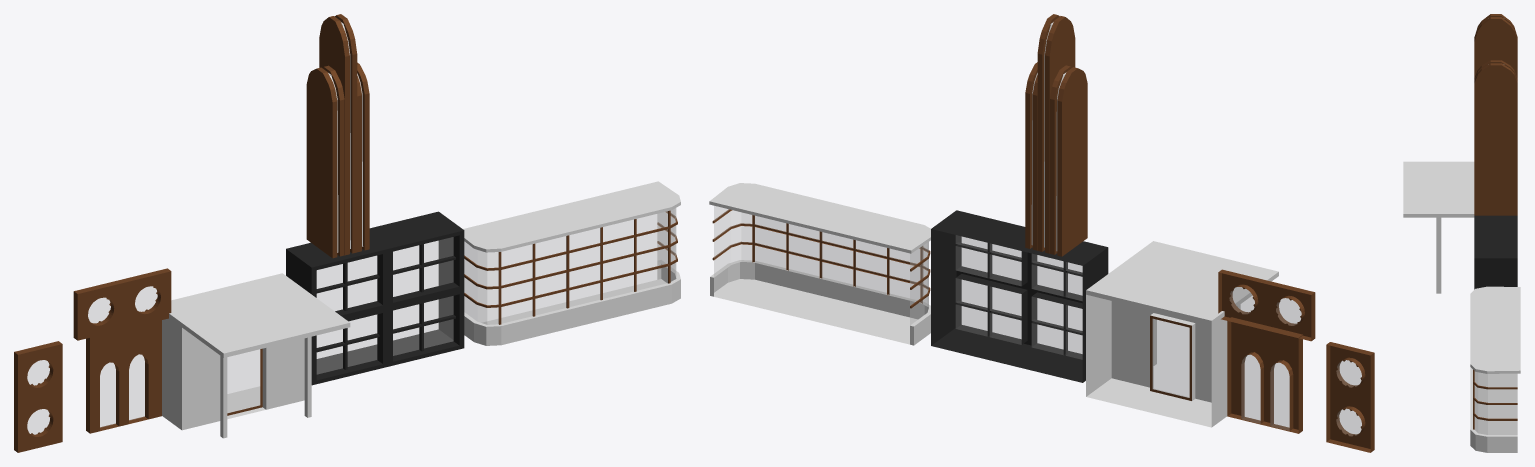
The model's file is Miami Modular .fbx.
3 renders of one model, left to right at view 1: azimuth 30°, elevation 25°; view 2: azimuth 150°, elevation 25°; view 3: azimuth 270°, elevation 25°, orthographic. The views are drawn at different scales.
Parts seen in each view (by area): view 1: Cube.181, Cube.184, Cube.183, Cube.182, Plane.027, Cube.188, Plane.015, Plane.026, Cube.187, Cube.186, Cube.185; view 2: Cube.181, Cube.184, Cube.182, Cube.183, Plane.027, Cube.188, Plane.015, Plane.026, Cube.187, Cube.185, Cube.186; view 3: Cube.182, Cube.186, Cube.184, Cube.181, Cube.183, Cube.187.
Part boxes in pixels (left/top/right/bottom): Cube.181: left=286, top=211, right=464, bottom=385; Cube.184: left=162, top=273, right=350, bottom=438; Cube.183: left=464, top=208, right=677, bottom=324; Cube.182: left=463, top=181, right=680, bottom=345; Plane.027: left=86, top=319, right=161, bottom=433; Cube.188: left=306, top=65, right=344, bottom=258; Plane.015: left=14, top=341, right=62, bottom=452; Plane.026: left=73, top=268, right=171, bottom=340; Cube.187: left=319, top=14, right=357, bottom=255; Cube.186: left=357, top=62, right=369, bottom=252; Cube.185: left=227, top=348, right=262, bottom=415; Cube.181: left=931, top=210, right=1108, bottom=382; Cube.184: left=1086, top=241, right=1278, bottom=427; Cube.182: left=709, top=183, right=930, bottom=345; Cube.183: left=712, top=206, right=930, bottom=324; Plane.027: left=1227, top=317, right=1302, bottom=433; Cube.188: left=1050, top=65, right=1087, bottom=256; Plane.015: left=1326, top=342, right=1374, bottom=452; Plane.026: left=1218, top=269, right=1315, bottom=341; Cube.187: left=1037, top=14, right=1075, bottom=253; Cube.185: left=1150, top=315, right=1191, bottom=400; Cube.186: left=1025, top=62, right=1037, bottom=250; Cube.182: left=1470, top=286, right=1520, bottom=452; Cube.186: left=1474, top=60, right=1517, bottom=215; Cube.184: left=1403, top=161, right=1474, bottom=293; Cube.181: left=1474, top=215, right=1517, bottom=289; Cube.183: left=1473, top=369, right=1517, bottom=434; Cube.187: left=1474, top=14, right=1517, bottom=77.
Bounding box in the file's own units: 2945 × 1552 × 539.
